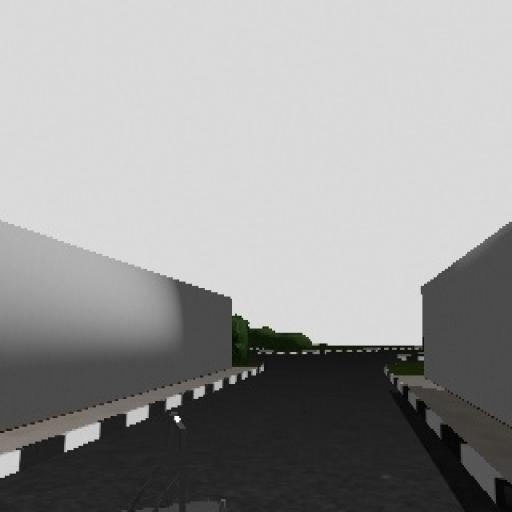huskya200: (126, 401, 232, 512)
